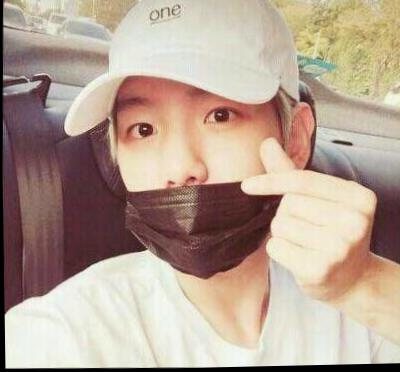WRONG: (111, 58, 289, 281)
